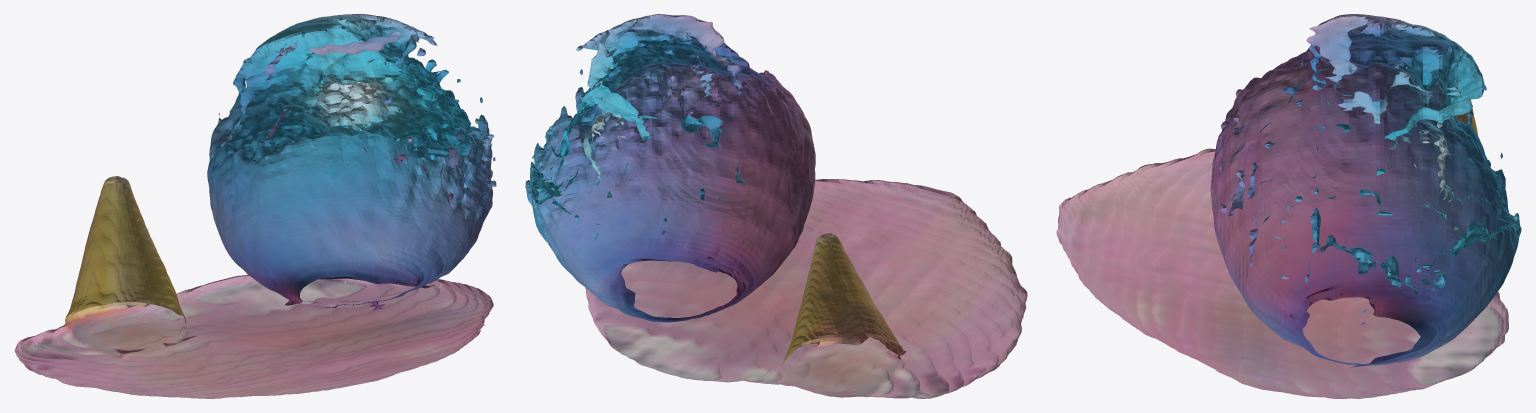
3 renders of one model, left to right at view 1: azimuth 30°, elevation 25°; view 2: azimuth 150°, elevation 25°; view 3: azimuth 270°, elevation 25°, orthographic. The views are drawn at different scales.
Parts seen in each view (by area): view 1: geometry_0; view 2: geometry_0; view 3: geometry_0.
Part boxes in pixels (bbox=[...]): geometry_0: bbox=[14, 14, 496, 398]; geometry_0: bbox=[525, 14, 1027, 398]; geometry_0: bbox=[1056, 14, 1521, 398].
Size of the model in its own units: 1.6 by 0.9851 by 1.23.
